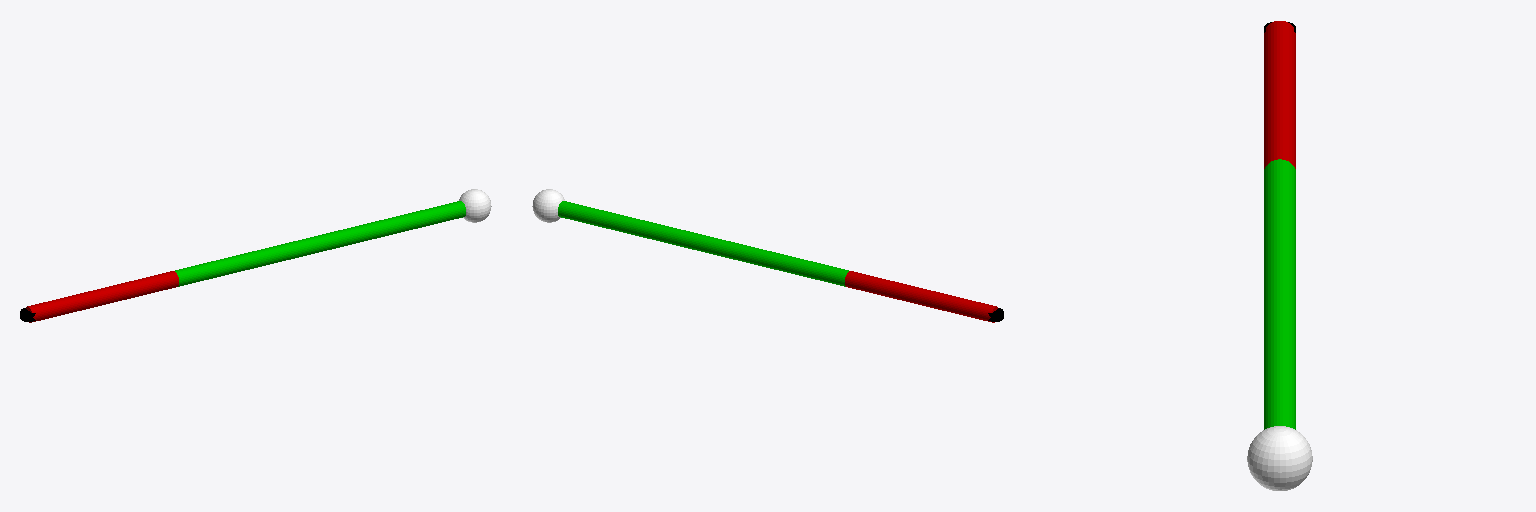
The robot description file, URDF, robot "2_link_planar":
<?xml version="1.0" ?>
<robot name="2_link_planar" version="1.0">
   <link name="world"/>
   <joint name="base_joint" type="fixed">
      <origin xyz="0.0 0.0 0.0" rpy="0.0 0.0 0.0"/>
      <parent link="world"/>
      <child link="base_link"/>
   </joint>
   <link name="base_link">
      <visual>
         <geometry>
            <cylinder radius="0.01" length="0.01"/>
         </geometry>
         <material name="black">
            <color rgba="0.0 0.0 0.0 1.0"/>
         </material>
      </visual>
      <collision>
         <geometry>
            <cylinder radius="0.01" length="0.01"/>
         </geometry>
      </collision>
   </link>
   <joint name="joint_1" type="revolute">
      <origin xyz="0.0 0.0 0.0" rpy="0.0 0.0 0.0"/>
      <axis xyz="0.0 0.0 1.0"/>
      <parent link="base_link"/>
      <child link="link_1"/>
      <limit effort="320.0" lower="-2.9670597283903604" upper="2.9670597283903604" velocity="2.35619449019"/>
   </joint>
   <link name="link_1">
      <visual>
         <origin xyz="0.1 0.0 0.0" rpy="0.0 1.57079632679 0.0"/>
         <geometry>
            <cylinder radius="0.01" length="0.2"/>
         </geometry>
         <material name="black">
            <color rgba="0.8 0.0 0.0 1.0"/>
         </material>
      </visual>
      <collision>
         <origin xyz="0.1 0.0 0.0" rpy="0.0 1.57079632679 0.0"/>
         <geometry>
            <cylinder radius="0.01" length="0.2"/>
         </geometry>
      </collision>
   </link>
   <joint name="joint_2" type="revolute">
      <origin xyz="0.2 0.0 0.0" rpy="0 0 0"/>
      <axis xyz="0.0 0.0 1.0"/>
      <parent link="link_1"/>
      <child link="link_2"/>
      <limit effort="320.0" lower="-2.0943951023931953" upper="2.0943951023931953" velocity="2.35619449019"/>
   </joint>
   <link name="link_2">
      <visual>
         <origin xyz="0.2 0.0 0.0" rpy="0.0 1.57079632679 0.0"/>
         <geometry>
            <cylinder radius="0.01" length="0.4"/>
         </geometry>
         <material name="green">
            <color rgba="0.0 0.8 0.0 1.0"/>
         </material>
      </visual>
      <collision>
         <origin xyz="0.2 0.0 0.0" rpy="0.0 1.57079632679 0.0"/>
         <geometry>
            <cylinder radius="0.01" length="0.4"/>
         </geometry>
      </collision>
   </link>
   <joint name="joint_ee" type="fixed">
      <origin xyz="0.4 0.0 0.0" rpy="0 0 0"/>
      <axis xyz="1.0 0.0 0.0"/>
      <parent link="link_2"/>
      <child link="link_ee"/>
   </joint>
   <link name="link_ee">
      <visual>
         <origin xyz="0.01 0.0 0.0" rpy="0.0 0.0 0.0"/>
         <geometry>
            <sphere radius="0.02"/>
         </geometry>
         <material name="white">
            <color rgba="1.0 1.0 1.0 1.0"/>
         </material>
      </visual>
      <collision>
         <origin xyz="0.01 0.0 0.0" rpy="0.0 0.0 0.0"/>
         <geometry>
            <sphere radius="0.01"/>
         </geometry>
      </collision>
   </link>
   <joint name="joint_link_1_sphere_0" type="fixed">
      <origin xyz="0.0 0.0 0.0" rpy="0 0 0"/>
      <parent link="link_1"/>
      <child link="link_1_0"/>
   </joint>
   <link name="link_1_0">
      <origin xyz="0.0 0.0 0.0" rpy="0.0 0.0 0.0"/>
   </link>
   <joint name="joint_link_1_sphere_1" type="fixed">
      <origin xyz="0.05 0.0 0.0" rpy="0 0 0"/>
      <parent link="link_1"/>
      <child link="link_1_1"/>
   </joint>
   <link name="link_1_1">
      <origin xyz="0.0 0.0 0.0" rpy="0.0 0.0 0.0"/>
   </link>
   <joint name="joint_link_1_sphere_2" type="fixed">
      <origin xyz="0.07 0.0 0.0" rpy="0 0 0"/>
      <parent link="link_1"/>
      <child link="link_1_2"/>
   </joint>
   <link name="link_1_2">
      <origin xyz="0.0 0.0 0.0" rpy="0.0 0.0 0.0"/>
   </link>
   <joint name="joint_link_1_sphere_3" type="fixed">
      <origin xyz="0.1 0.0 0.0" rpy="0 0 0"/>
      <parent link="link_1"/>
      <child link="link_1_3"/>
   </joint>
   <link name="link_1_3">
      <origin xyz="0.0 0.0 0.0" rpy="0.0 0.0 0.0"/>
   </link>
   <joint name="joint_link_1_sphere_4" type="fixed">
      <origin xyz="0.15 0.0 0.0" rpy="0 0 0"/>
      <parent link="link_1"/>
      <child link="link_1_4"/>
   </joint>
   <link name="link_1_4">
      <origin xyz="0.0 0.0 0.0" rpy="0.0 0.0 0.0"/>
   </link>
   <joint name="joint_link_2_sphere_0" type="fixed">
      <origin xyz="0.0 0.0 0.0" rpy="0 0 0"/>
      <parent link="link_2"/>
      <child link="link_2_0"/>
   </joint>
   <link name="link_2_0">
      <origin xyz="0.0 0.0 0.0" rpy="0.0 0.0 0.0"/>
   </link>
   <joint name="joint_link_2_sphere_1" type="fixed">
      <origin xyz="0.05 0.0 0.0" rpy="0 0 0"/>
      <parent link="link_2"/>
      <child link="link_2_1"/>
   </joint>
   <link name="link_2_1">
      <origin xyz="0.0 0.0 0.0" rpy="0.0 0.0 0.0"/>
   </link>
   <joint name="joint_link_2_sphere_2" type="fixed">
      <origin xyz="0.07 0.0 0.0" rpy="0 0 0"/>
      <parent link="link_2"/>
      <child link="link_2_2"/>
   </joint>
   <link name="link_2_2">
      <origin xyz="0.0 0.0 0.0" rpy="0.0 0.0 0.0"/>
   </link>
   <joint name="joint_link_2_sphere_3" type="fixed">
      <origin xyz="0.1 0.0 0.0" rpy="0 0 0"/>
      <parent link="link_2"/>
      <child link="link_2_3"/>
   </joint>
   <link name="link_2_3">
      <origin xyz="0.0 0.0 0.0" rpy="0.0 0.0 0.0"/>
   </link>
   <joint name="joint_link_2_sphere_4" type="fixed">
      <origin xyz="0.15 0.0 0.0" rpy="0 0 0"/>
      <parent link="link_2"/>
      <child link="link_2_4"/>
   </joint>
   <link name="link_2_4">
      <origin xyz="0.0 0.0 0.0" rpy="0.0 0.0 0.0"/>
   </link>
   <joint name="joint_link_2_sphere_5" type="fixed">
      <origin xyz="0.2 0.0 0.0" rpy="0 0 0"/>
      <parent link="link_2"/>
      <child link="link_2_5"/>
   </joint>
   <link name="link_2_5">
      <origin xyz="0.0 0.0 0.0" rpy="0.0 0.0 0.0"/>
   </link>
   <joint name="joint_link_2_sphere_6" type="fixed">
      <origin xyz="0.25 0.0 0.0" rpy="0 0 0"/>
      <parent link="link_2"/>
      <child link="link_2_6"/>
   </joint>
   <link name="link_2_6">
      <origin xyz="0.0 0.0 0.0" rpy="0.0 0.0 0.0"/>
   </link>
   <joint name="joint_link_2_sphere_7" type="fixed">
      <origin xyz="0.3 0.0 0.0" rpy="0 0 0"/>
      <parent link="link_2"/>
      <child link="link_2_7"/>
   </joint>
   <link name="link_2_7">
      <origin xyz="0.0 0.0 0.0" rpy="0.0 0.0 0.0"/>
   </link>
   <joint name="joint_link_2_sphere_8" type="fixed">
      <origin xyz="0.35 0.0 0.0" rpy="0 0 0"/>
      <parent link="link_2"/>
      <child link="link_2_8"/>
   </joint>
   <link name="link_2_8">
      <origin xyz="0.0 0.0 0.0" rpy="0.0 0.0 0.0"/>
   </link>
   <joint name="joint_link_2_sphere_9" type="fixed">
      <origin xyz="0.4 0.0 0.0" rpy="0 0 0"/>
      <parent link="link_2"/>
      <child link="link_2_9"/>
   </joint>
   <link name="link_2_9">
      <origin xyz="0.0 0.0 0.0" rpy="0.0 0.0 0.0"/>
   </link>
</robot>

--- What the picture shows (computed from the rendered views, not written in the file) ---
3 views of the same robot in one strip: view 1: azimuth 30°, elevation 25°; view 2: azimuth 150°, elevation 25°; view 3: azimuth 270°, elevation 25° (orthographic).
Robot: 2_link_planar — 20 links, 19 joints (2 revolute, 17 fixed); root link world; default pose: all joints at 0.
Links seen in each view (by area): view 1: link_2, link_1, link_ee; view 2: link_2, link_1, link_ee; view 3: link_2, link_1, link_ee.
Link boxes in pixels (x1,y1,x2,y2): link_2: (175,201,465,286); link_1: (26,271,178,322); link_ee: (459,189,491,222); link_2: (558,201,848,286); link_1: (845,271,997,322); link_ee: (532,189,564,222); link_2: (1264,159,1295,429); link_1: (1264,21,1295,168); link_ee: (1247,426,1312,490).
Size in the robot's own frame: 0.64 by 0.04 by 0.04 metres.
Geometry: primitives only (box / cylinder / sphere), no mesh files.